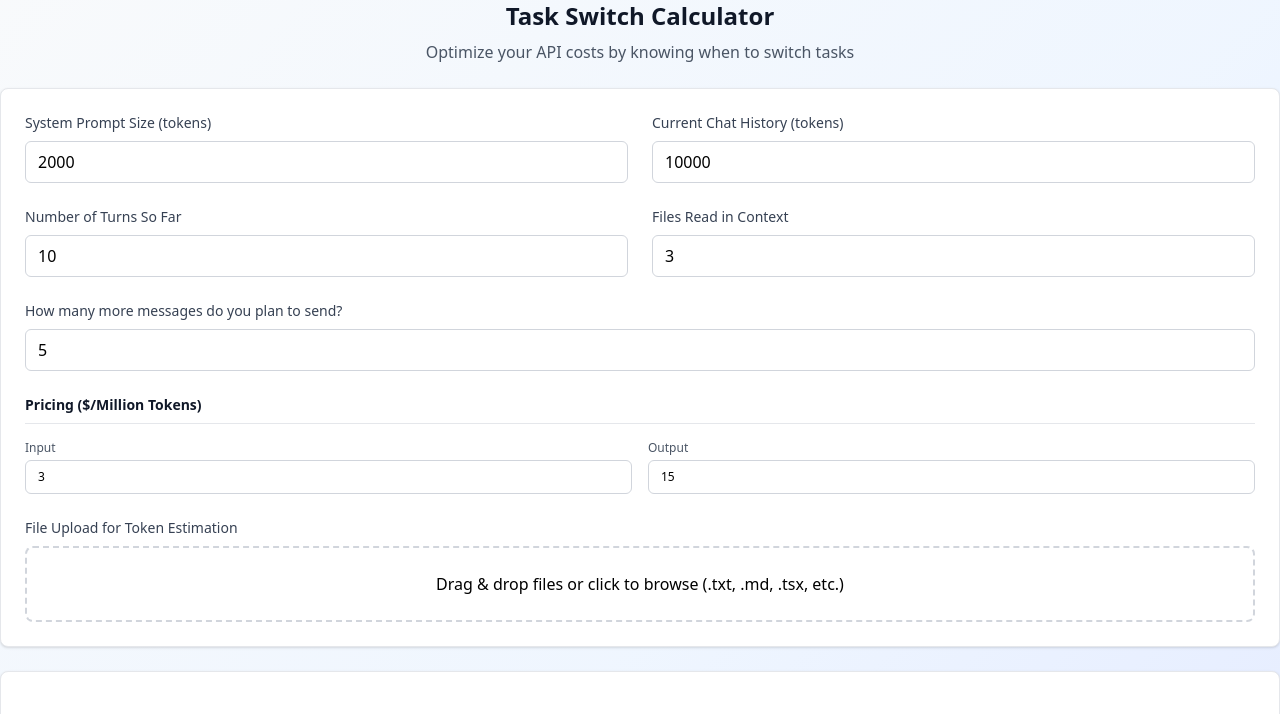
Test: ContextManager › urgent switch scenario with risk warnings
# High history for urgent
Replace the text in the number field labelled "Current Chat History (tokens)" with "30000" at (954, 162), box [652,141,1255,183]
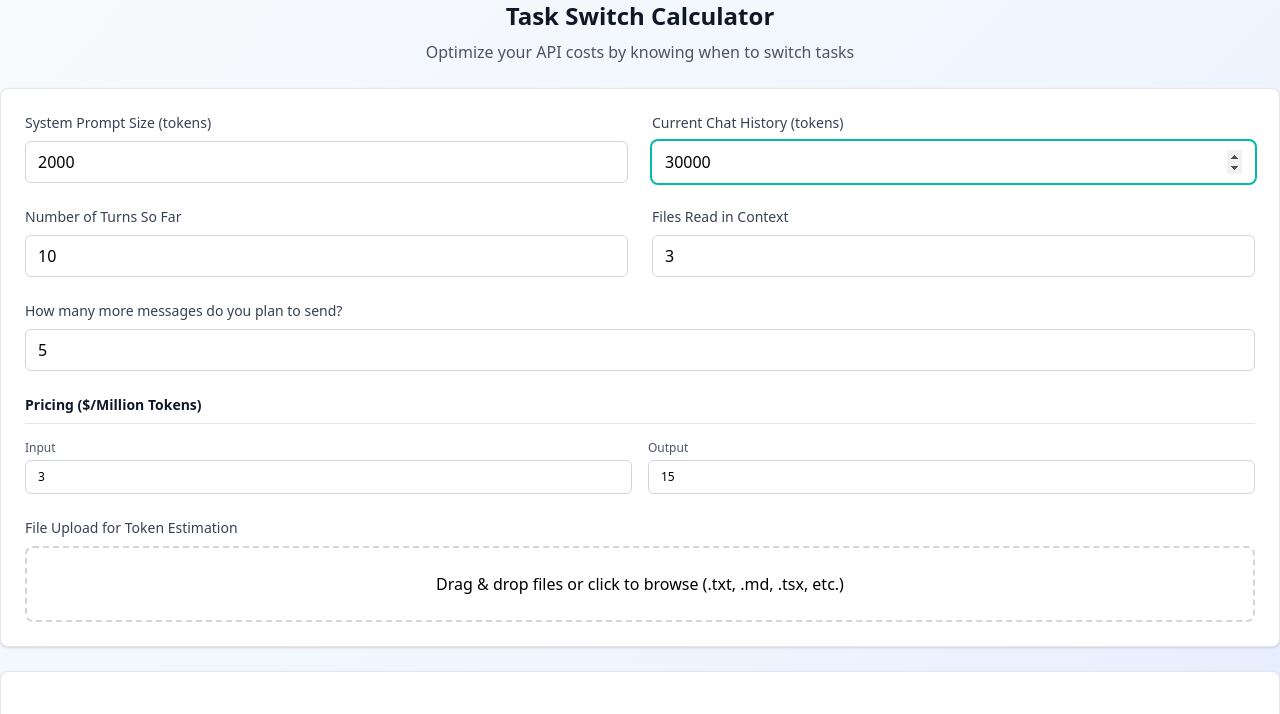
# High turns/files for warnings
Replace the text in the number field labelled "Number of Turns So Far" with "25" at (326, 256), box [25,235,628,277]
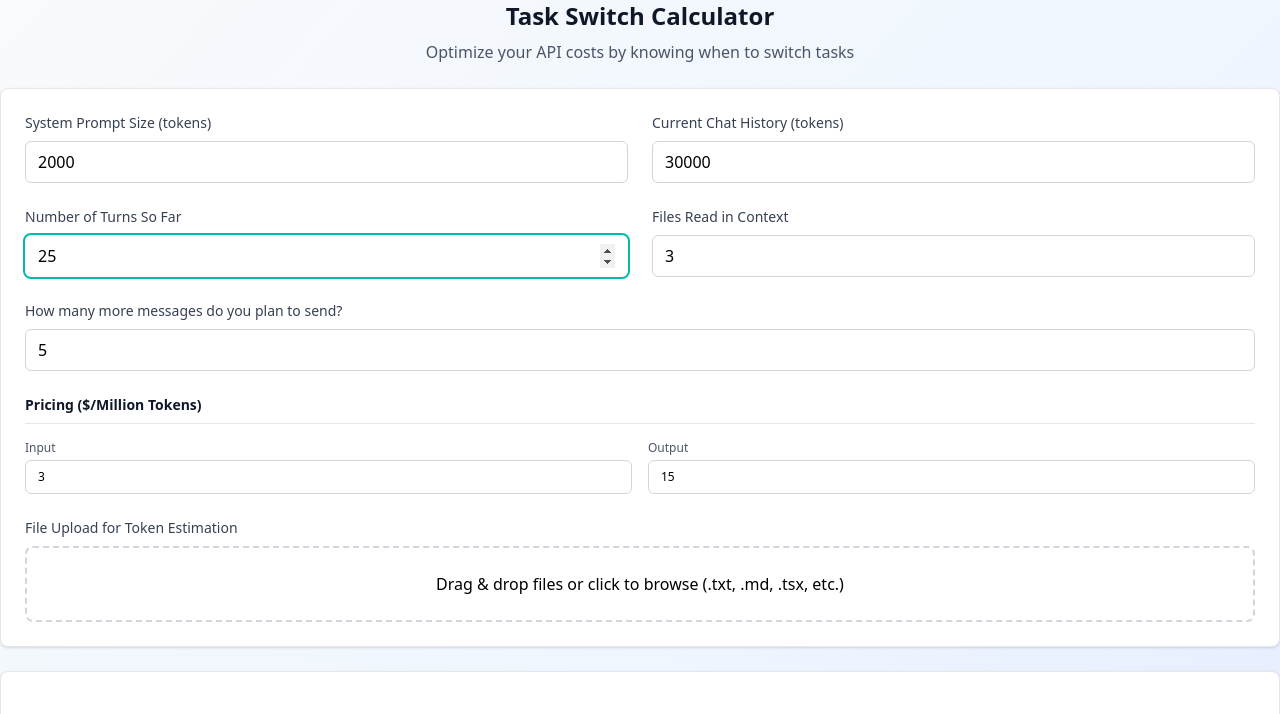
Replace the text in the number field labelled "Files Read in Context" with "10" at (954, 256), box [652,235,1255,277]
(page scrolled)
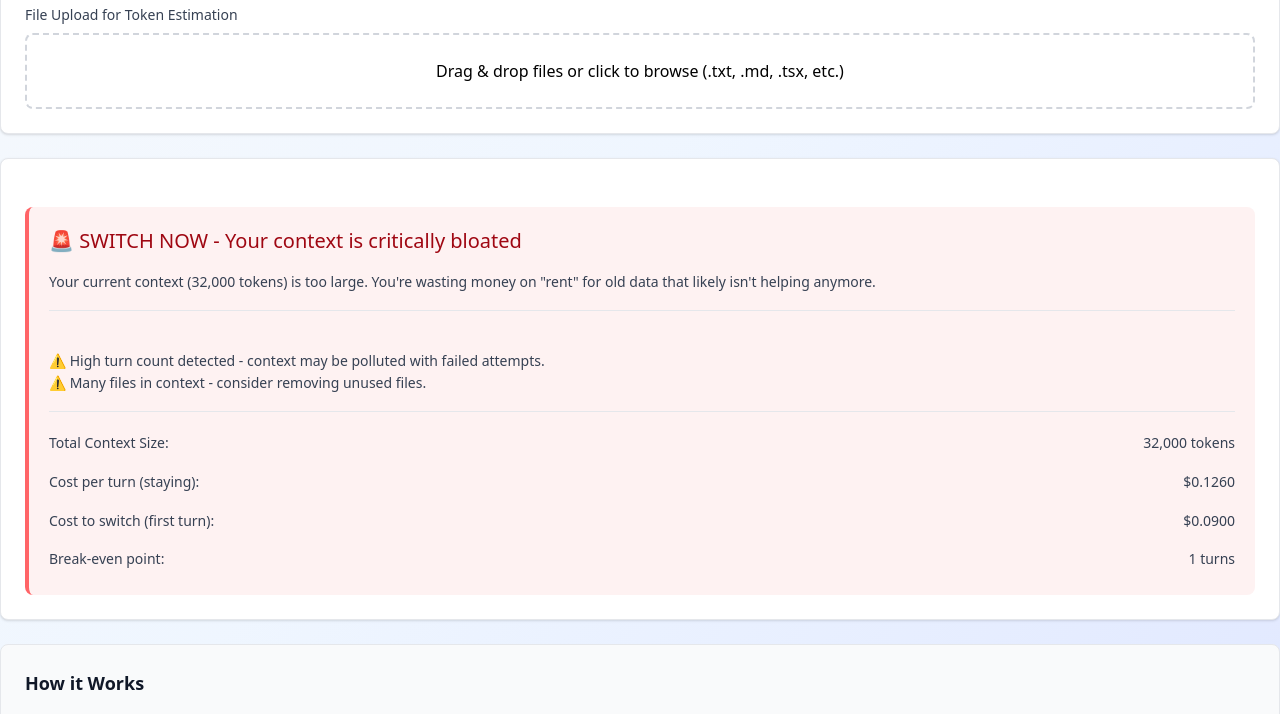
Result: the text "High turn count detected" is shown at [49,350,545,370]
Result: the text "Many files in context" is shown at [49,373,426,392]
